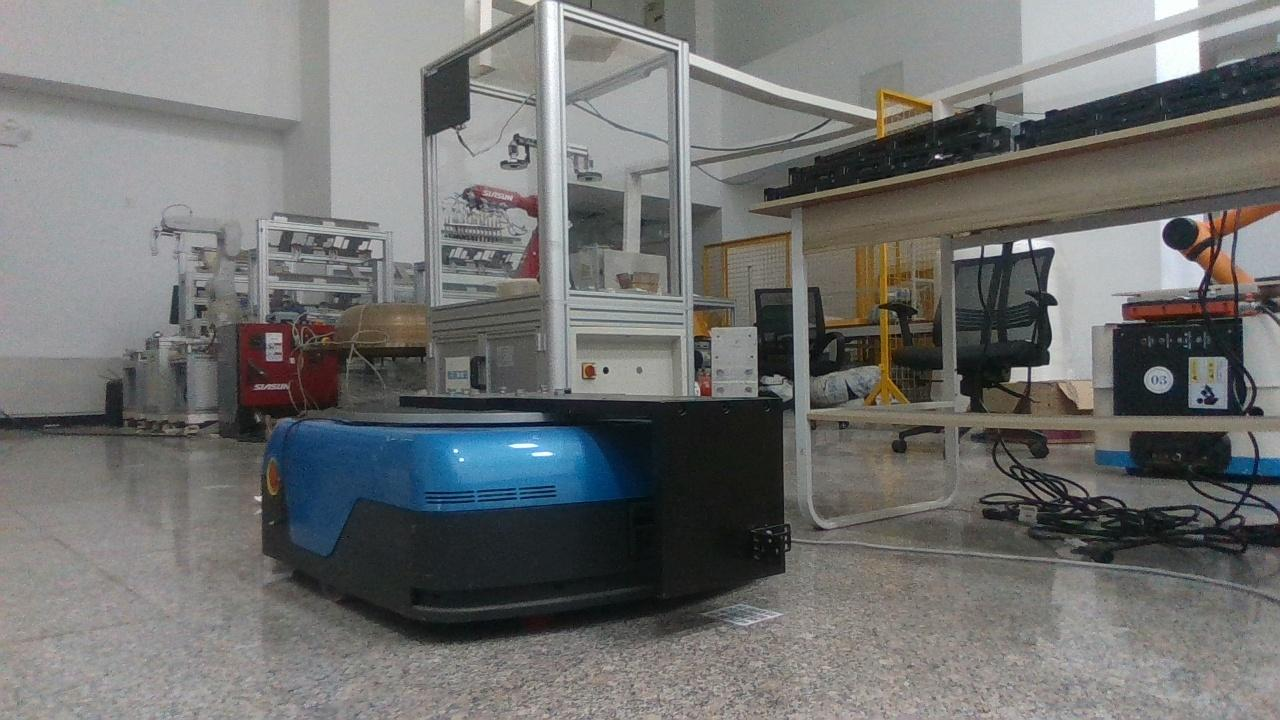AGV: (260, 395, 792, 621)
